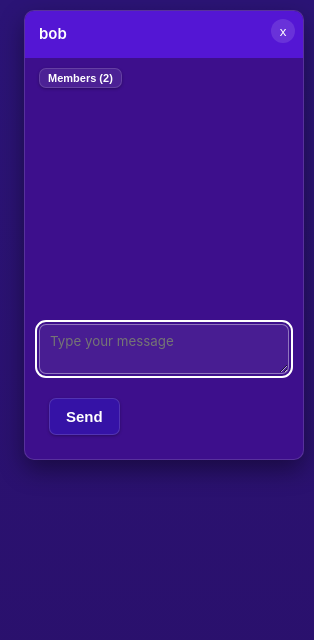
ChatWindow › does not show a Remove button next to your own name, only next to other members
The width and height of the screenshot is (314, 640).
Click the button "Members (2)" at (80, 78), box [39,68,122,88]
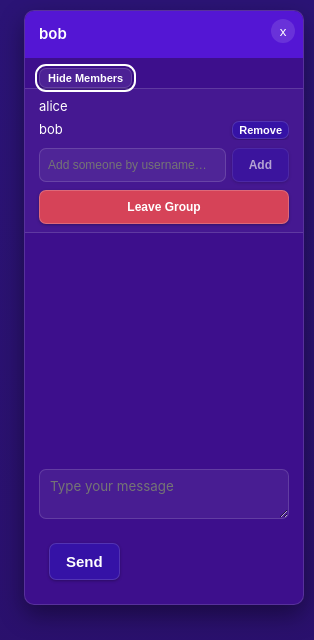
Check: the button with aria-label "Remove bob" is shown, box [232,121,289,139]
